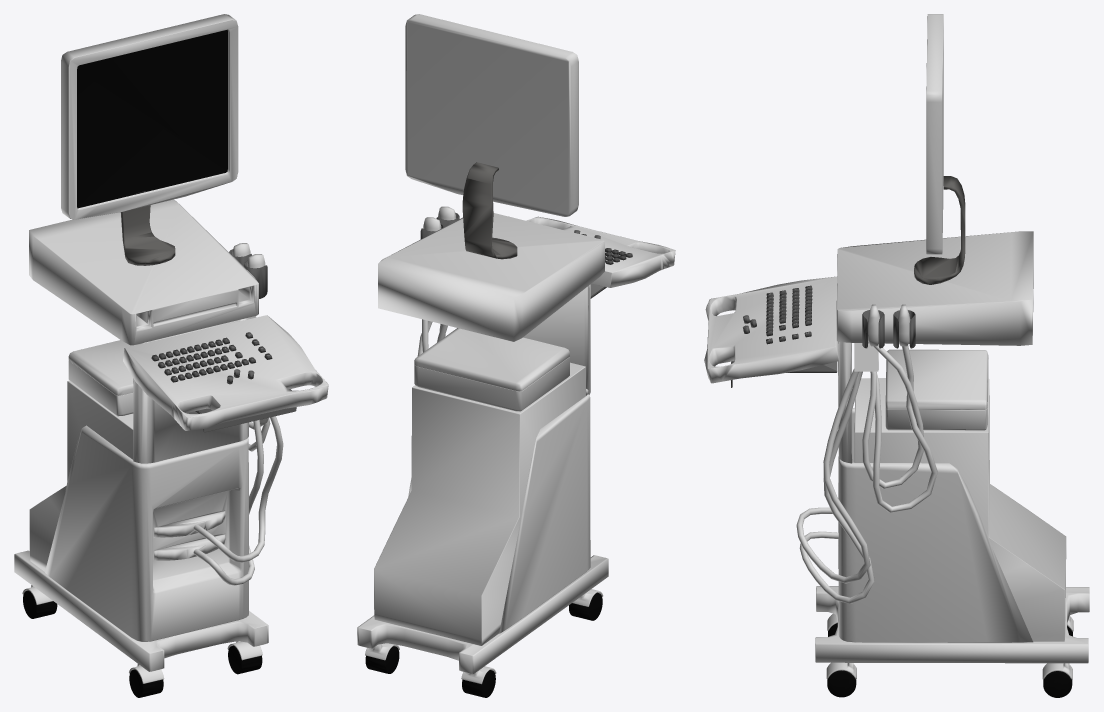
3 views of the same model, side by side, from view 1: azimuth 30°, elevation 25°; view 2: azimuth 150°, elevation 25°; view 3: azimuth 270°, elevation 25° (orthographic). The views are drawn at different scales.
Parts seen in each view (by area): view 1: EM-36; view 2: EM-36; view 3: EM-36.
Part boxes in pixels (bbox=[...]): EM-36: bbox=[14, 14, 328, 697]; EM-36: bbox=[357, 14, 675, 697]; EM-36: bbox=[704, 14, 1089, 697].
Bounding box in the file's own units: 49.56 × 165 × 93.84.
Materials: 5 (2 with a texture image).
